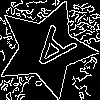A: (20, 24, 78, 80)
